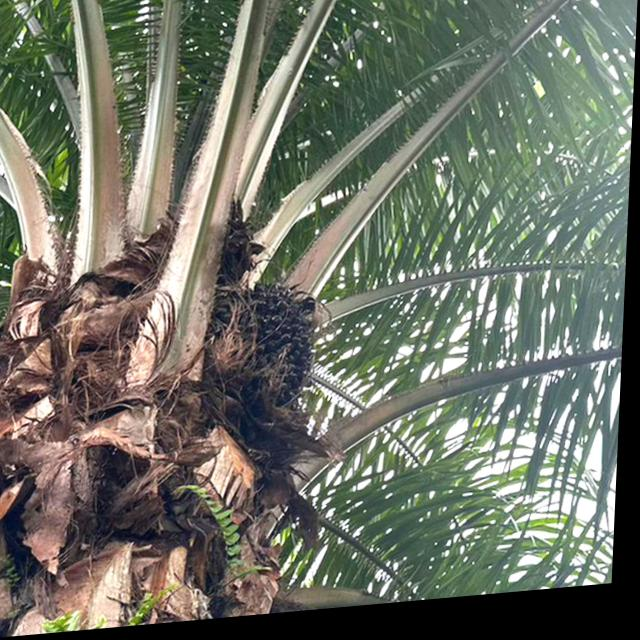unripe: (206, 283, 330, 422)
